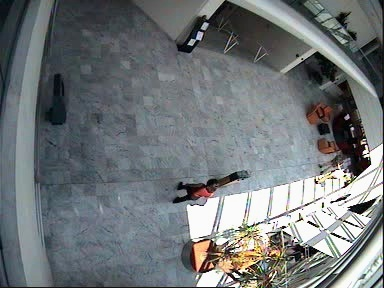person: (171, 179, 217, 203), (314, 165, 348, 184), (319, 154, 348, 173)
